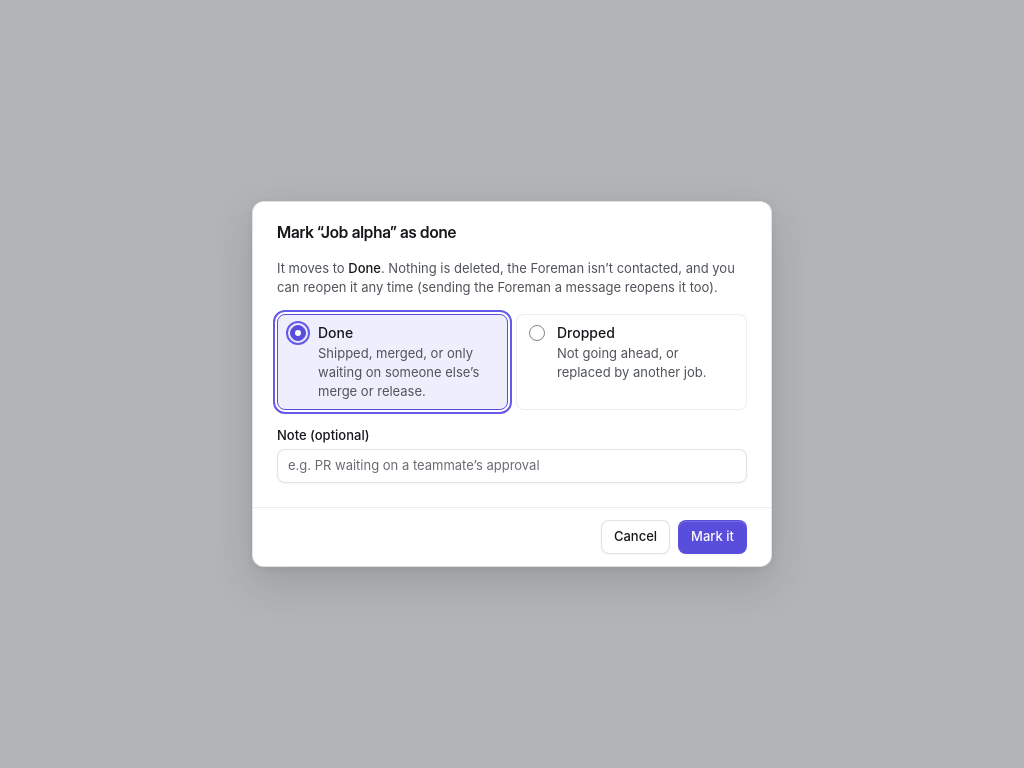
CloseJobSheet › offers no worktree removal for a job without one, and keeps the sheet open on a refusal
Click the button "Mark it": click(713, 537) [678,520,747,554]
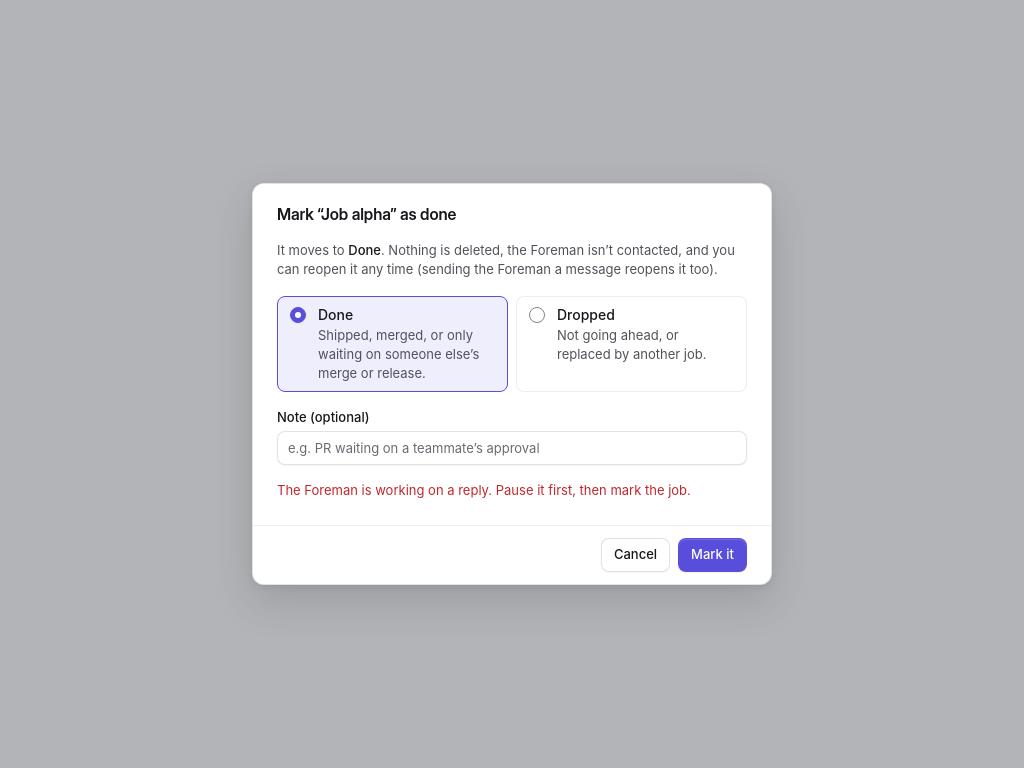
Check: the message shows "The Foreman is working on a reply", box [277,482,691,498]
